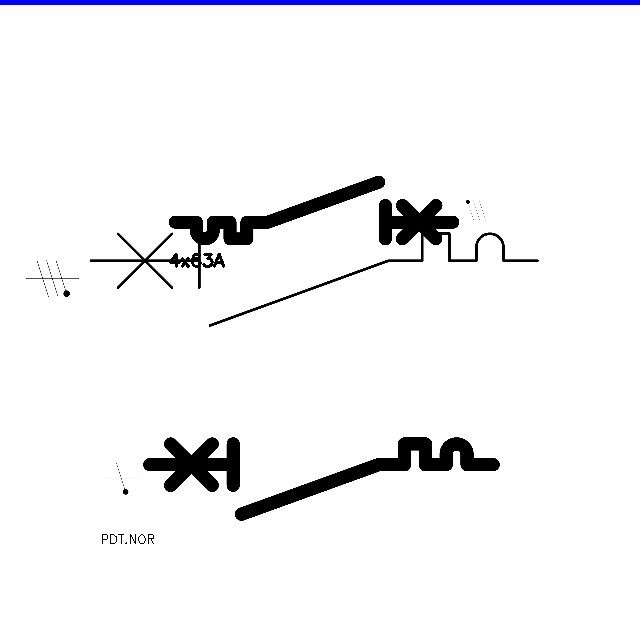interruptor_termomagnetico: (79, 222, 549, 337), (140, 435, 502, 523), (168, 175, 460, 246)
